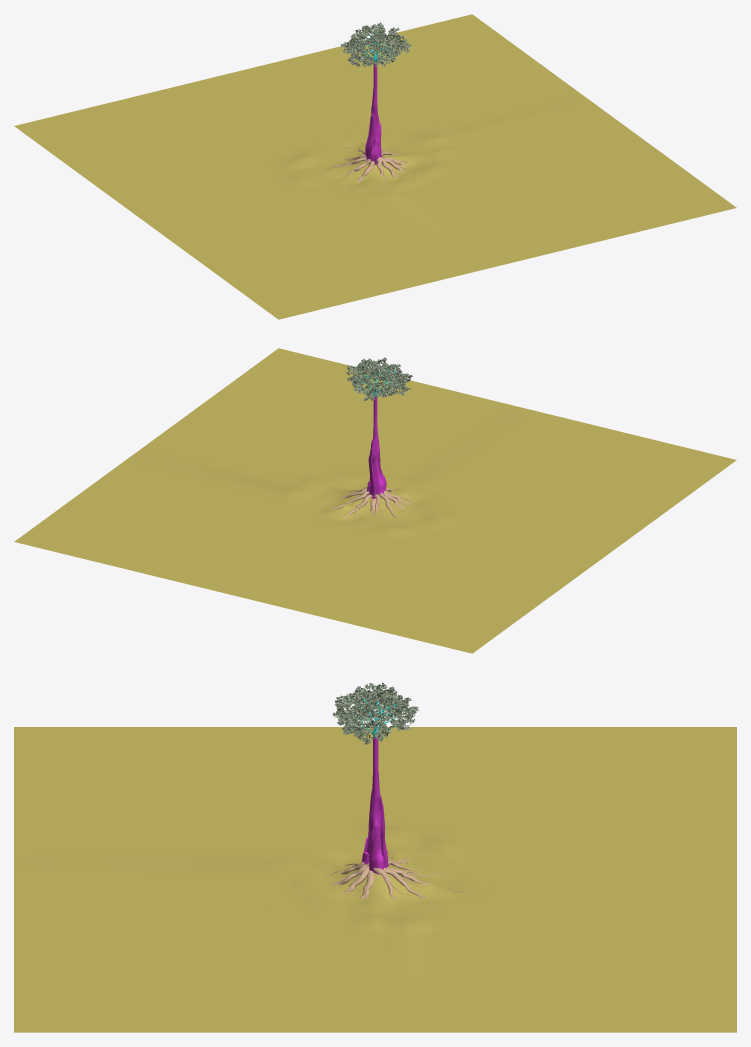
The model's file is Tree_trunk_top_leaves_roots (2).fbx.
3 views of the same model, one above another, from view 1: azimuth 30°, elevation 25°; view 2: azimuth 150°, elevation 25°; view 3: azimuth 270°, elevation 25° (orthographic). The views are drawn at different scales.
Visible parts, largest first — view 1: Suelo, Hojas, Raíces, Tronco; view 2: Suelo, Hojas, Raíces, Tronco; view 3: Suelo, Hojas, Tronco, Raíces.
Boxes of the visible parts, left/top/right/bottom form: Suelo: left=14, top=14, right=736, bottom=319; Hojas: left=340, top=22, right=411, bottom=66; Raíces: left=321, top=130, right=408, bottom=183; Tronco: left=365, top=64, right=382, bottom=164; Suelo: left=14, top=348, right=736, bottom=653; Hojas: left=346, top=357, right=412, bottom=401; Raíces: left=315, top=487, right=415, bottom=522; Tronco: left=367, top=396, right=386, bottom=498; Suelo: left=14, top=727, right=736, bottom=1032; Hojas: left=332, top=682, right=418, bottom=744; Tronco: left=362, top=737, right=388, bottom=874; Raíces: left=326, top=852, right=486, bottom=905.
Size of the model in its own units: 19685 by 6865 by 19685.
